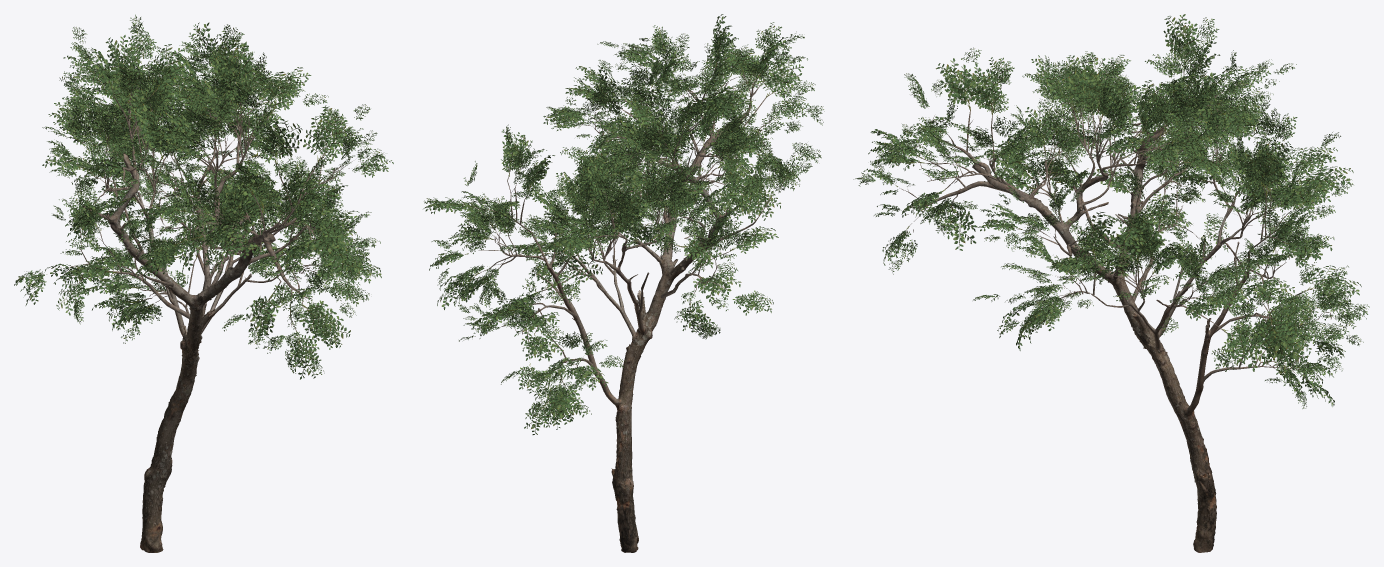
The model's file is tree_small_02_mobile.glb.
3 views of the same model, side by side, from view 1: azimuth 30°, elevation 25°; view 2: azimuth 150°, elevation 25°; view 3: azimuth 270°, elevation 25° (orthographic). The views are drawn at different scales.
Parts seen in each view (by area): view 1: tree_small_02_LOD0; view 2: tree_small_02_LOD0; view 3: tree_small_02_LOD0.
Part boxes in pixels (x1=…): tree_small_02_LOD0: x1=14, y1=14, x2=393, y2=552; tree_small_02_LOD0: x1=423, y1=14, x2=824, y2=552; tree_small_02_LOD0: x1=853, y1=14, x2=1369, y2=552.
Size of the model in its own units: 2.92 by 4.56 by 4.29.
3 materials, 3 textured.
